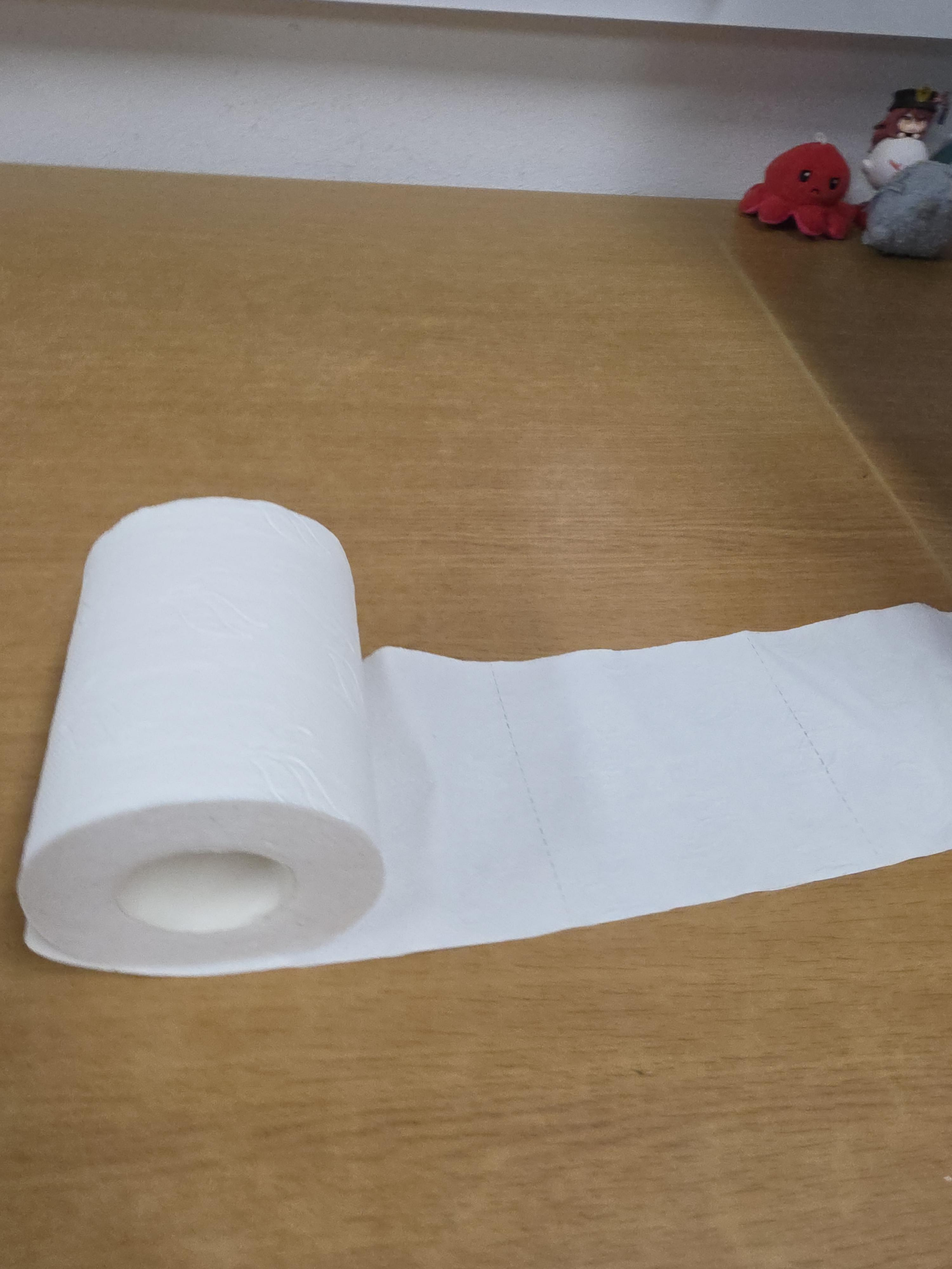tissue: (17, 496, 951, 977)
